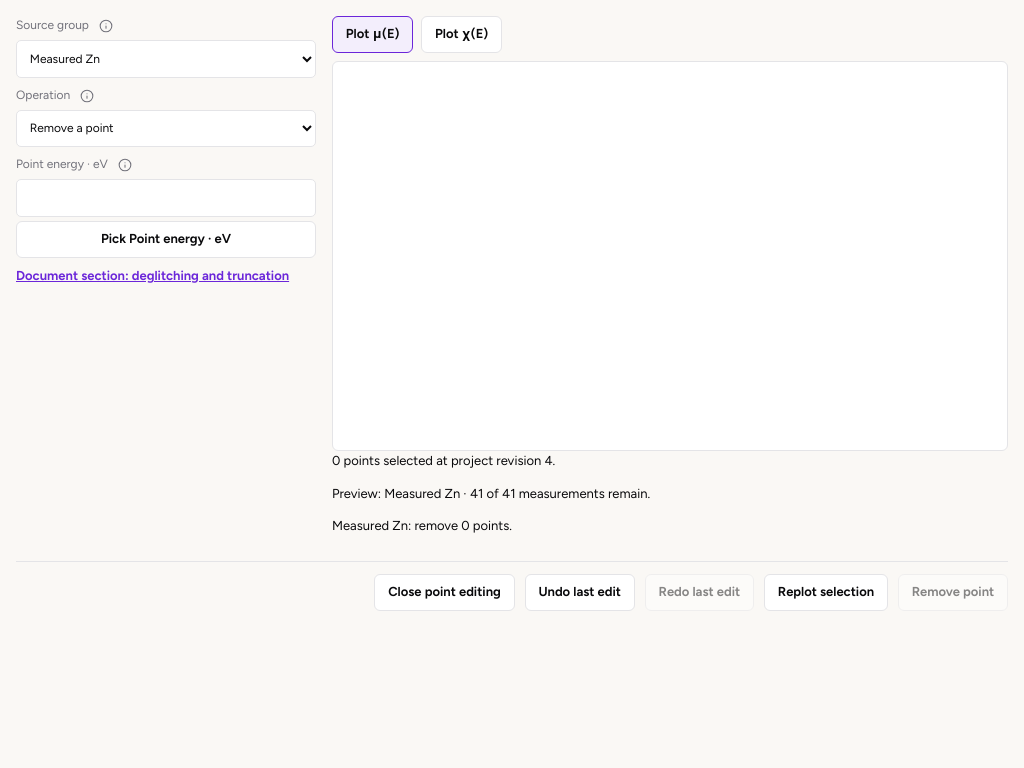
Test: uses signal-unit margin defaults, plots limits, plucks relative E0 and rejects a straddled edge
Check: the text "0 points selected at project revision 4." is shown, box [332,453,555,468]
Select "Remove outside margins" in the dropdown labelled "Operation" at [166, 128], box [16,110,316,147]
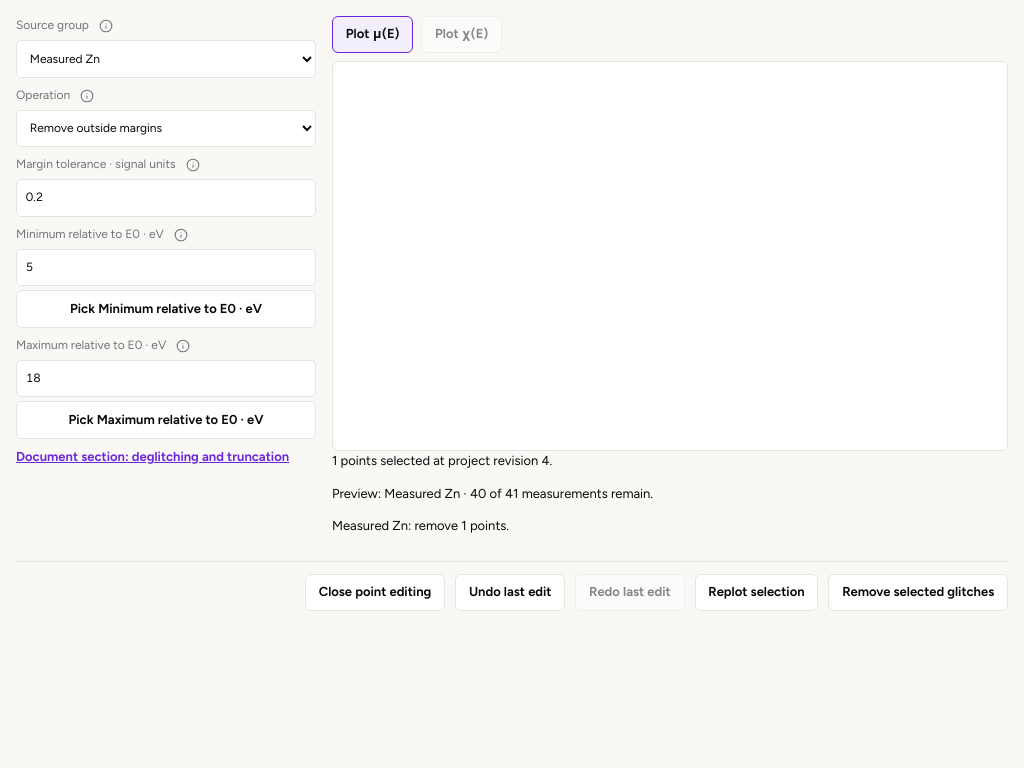
Check: the number field labelled "Margin tolerance · signal units" holds "0.2", box [16,179,316,217]
Check: the button "Remove selected glitches" is enabled, box [828,574,1008,611]
Click the button "Pick Minimum relative to E0 · eV" at [166, 309], box [16,290,316,328]
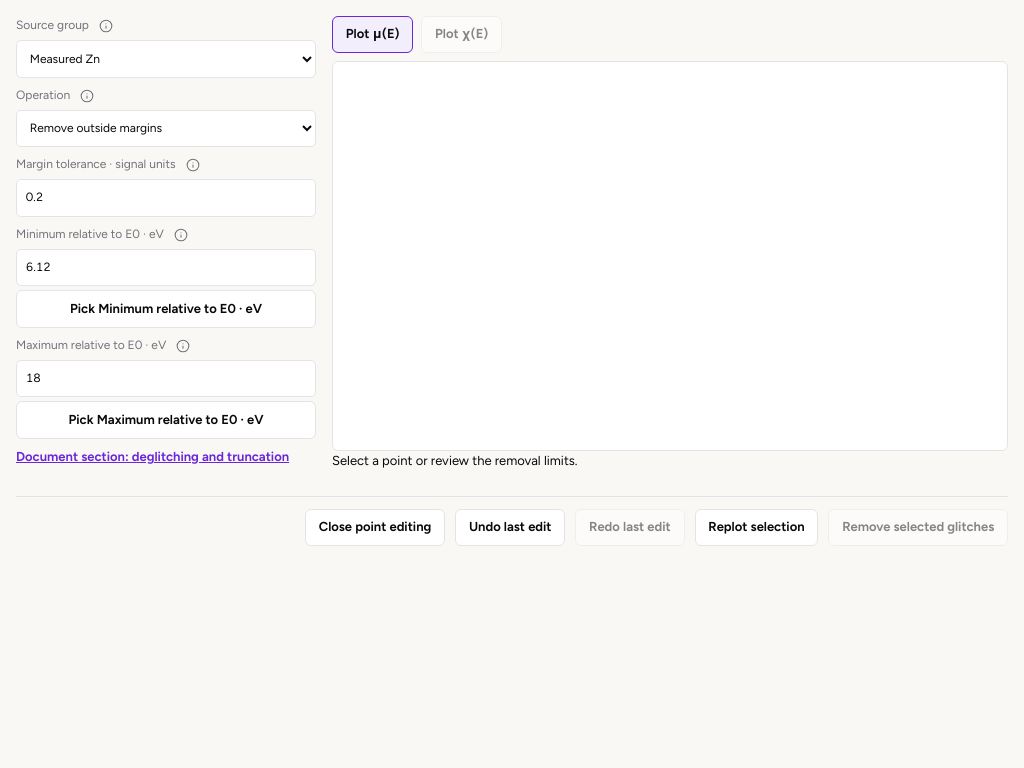
Check: the number field labelled "Minimum relative to E0 · eV" holds "6.12"
Replace the text in the number field labelled "Minimum relative to E0 · eV" with "-5" at [166, 268], box [16,249,316,286]
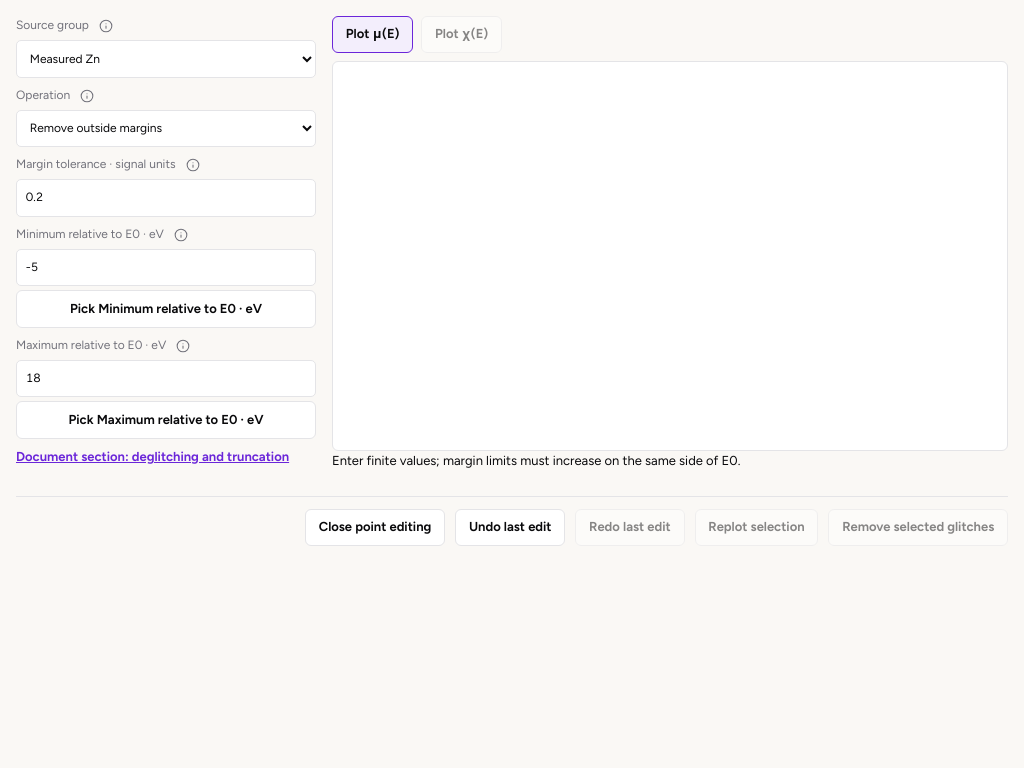
Check: the button "Remove selected glitches" is disabled, box [828,509,1008,546]
Check: the text "Enter finite values; margin limits must increase on the same side of E0." is shown, box [332,453,740,468]
